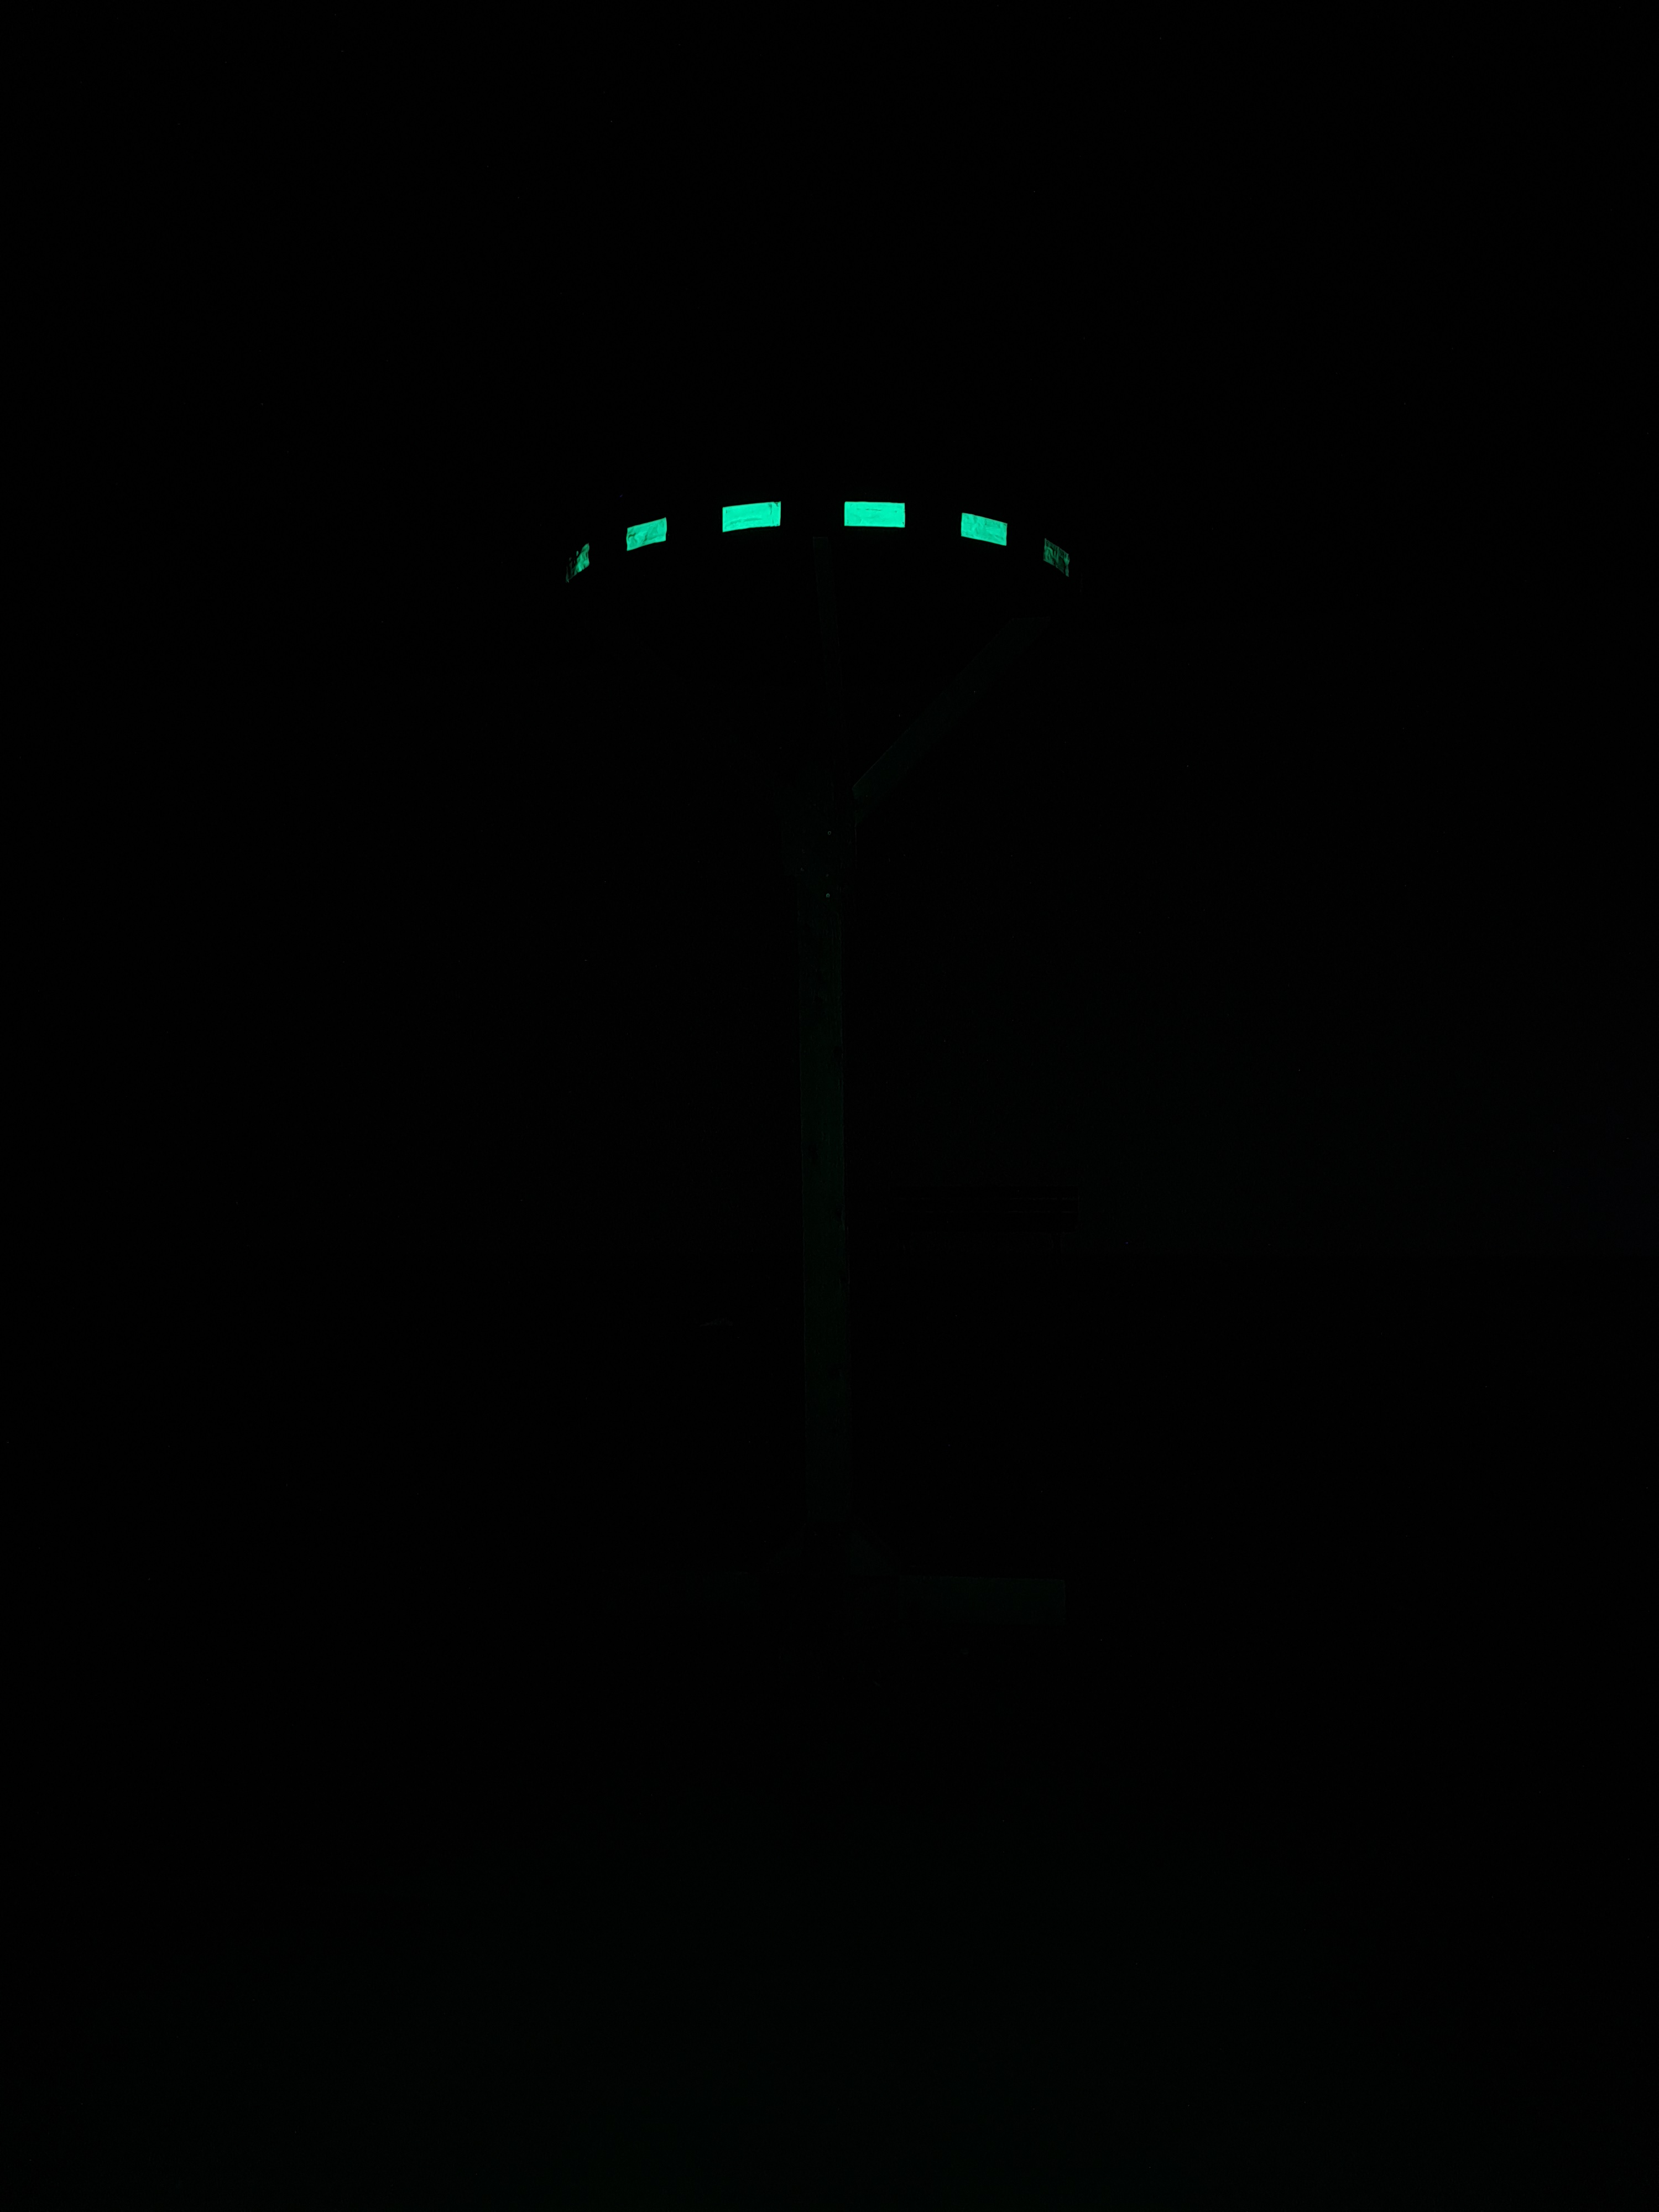hoop: (558, 500, 1077, 590)
